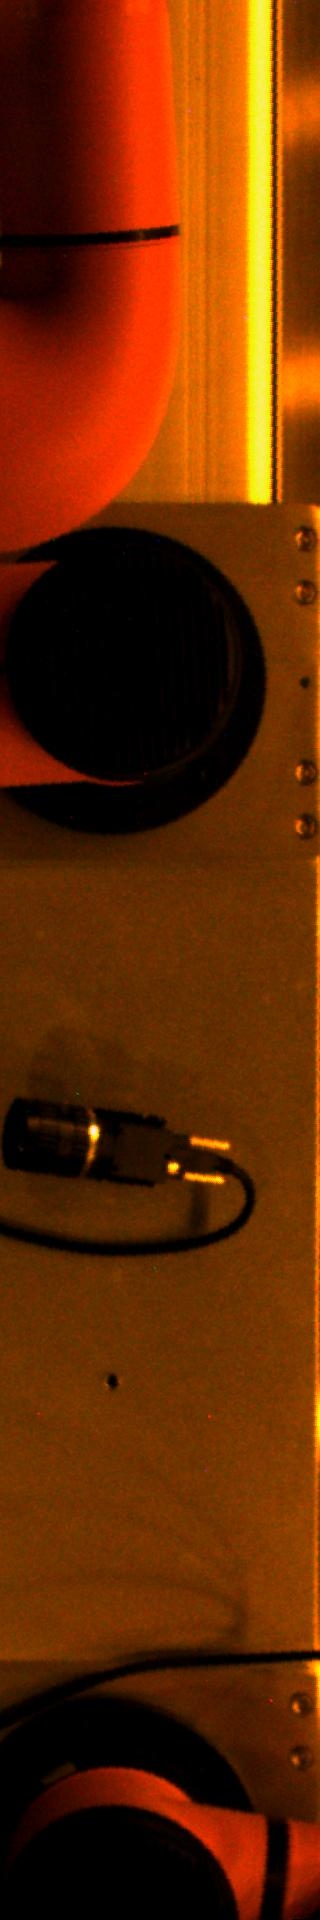keyPoint_2: (97, 1367, 128, 1396)
